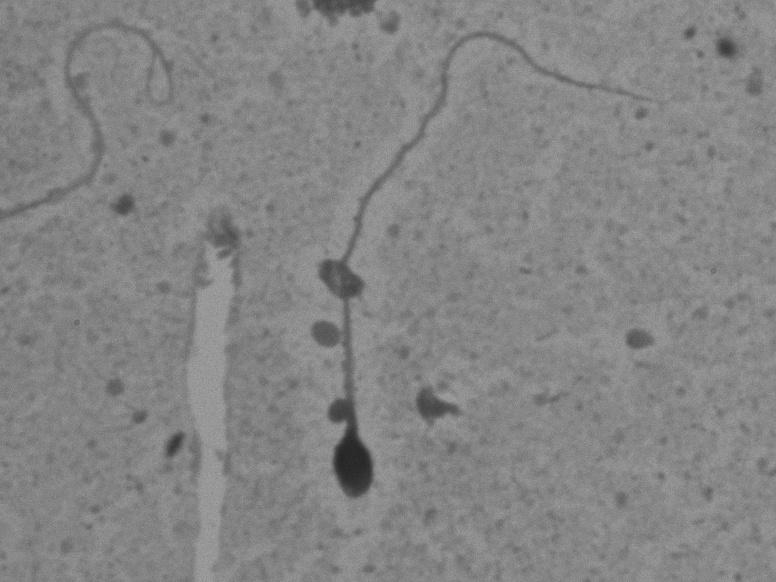Abnormal: (286, 29, 657, 507)
